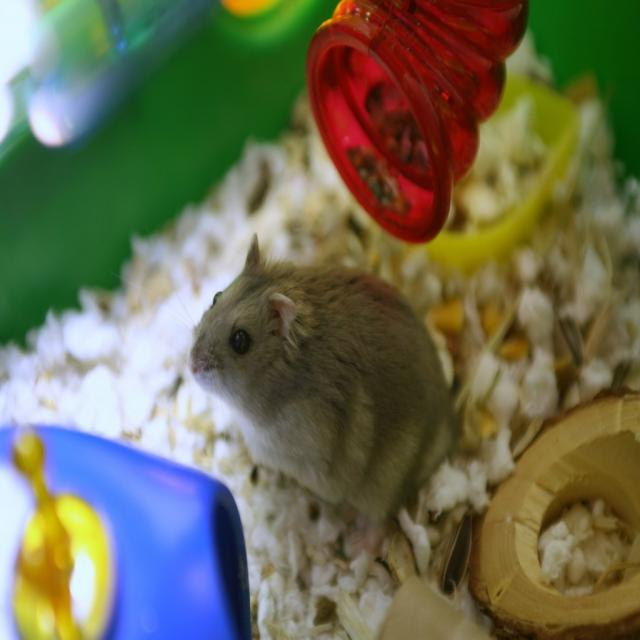rat: (188, 242, 454, 554)
